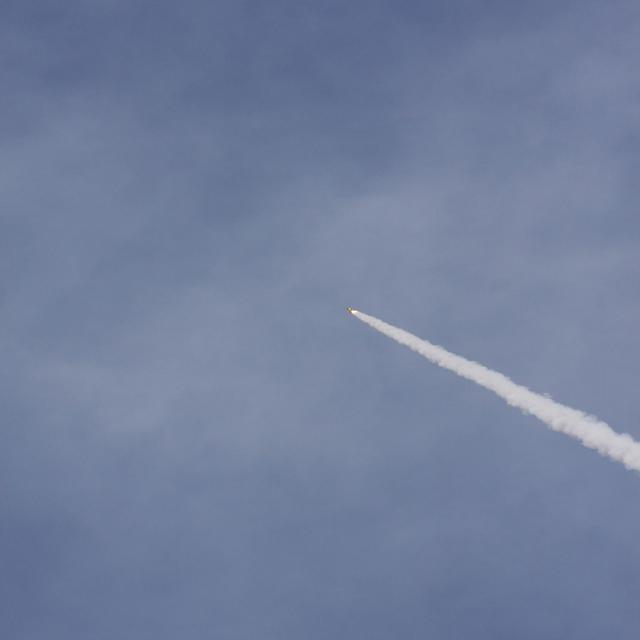Rocket: (346, 308, 356, 314)
